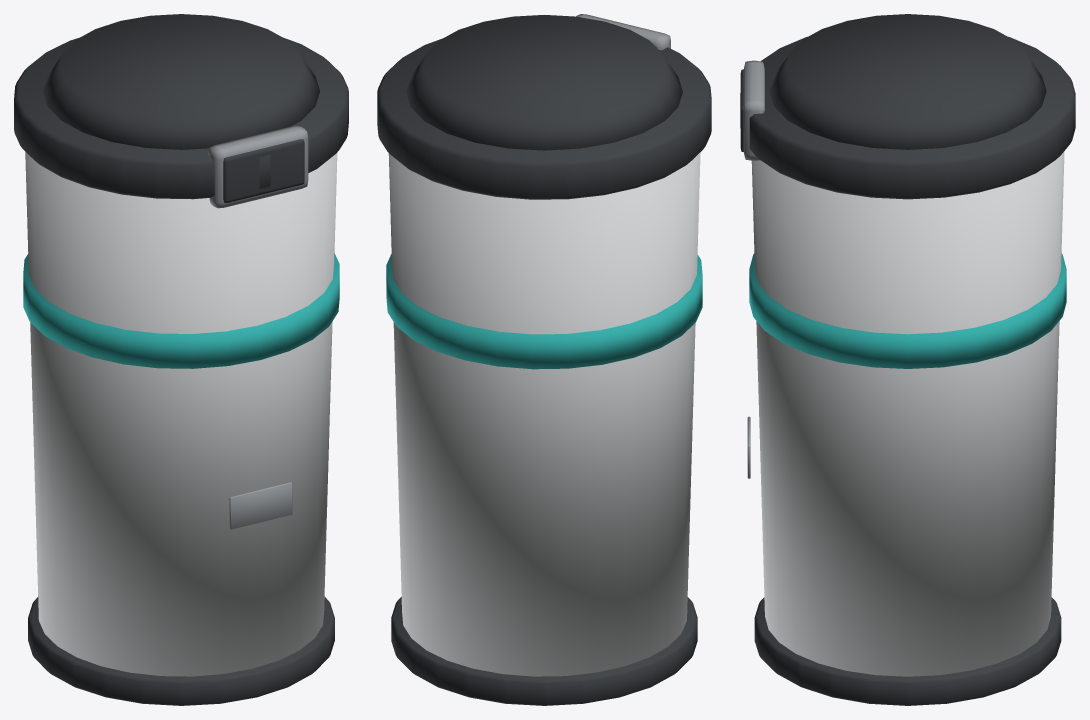
File: shop-bin.glb
3 renders of one model, left to right at view 1: azimuth 30°, elevation 25°; view 2: azimuth 150°, elevation 25°; view 3: azimuth 270°, elevation 25°, orthographic.
Parts seen in each view (by area): view 1: Body, Base, Band, Aperture; view 2: Body, Base, Band, Aperture; view 3: Body, Base, Band, Aperture.
Part boxes in pixels (x1,y1,x2,y2): Body: (25, 152, 337, 676); Base: (14, 14, 348, 705); Band: (23, 253, 339, 368); Aperture: (208, 125, 308, 529); Body: (388, 152, 700, 676); Base: (377, 15, 711, 705); Band: (386, 254, 702, 369); Aperture: (576, 14, 670, 50); Body: (751, 151, 1064, 676); Base: (740, 14, 1075, 705); Band: (749, 253, 1066, 368); Aperture: (743, 60, 764, 478).
Size of the model in its own units: 0.4687 by 0.89 by 0.4687.
